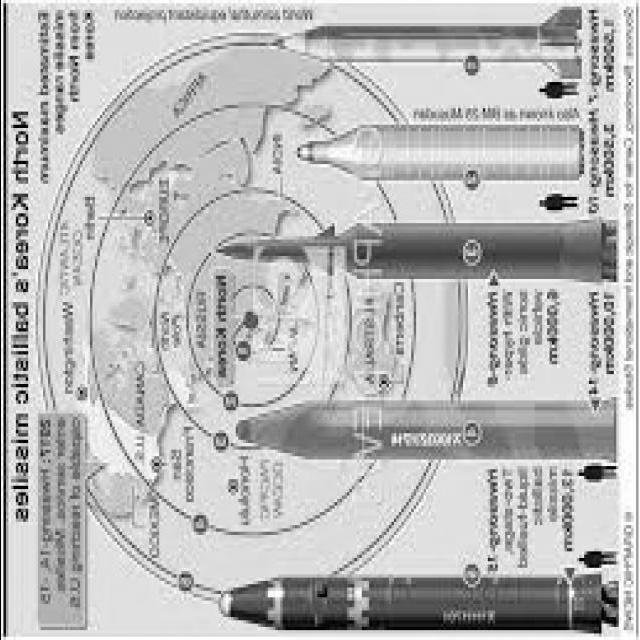Missile: (223, 561, 622, 638), (272, 22, 572, 61)
